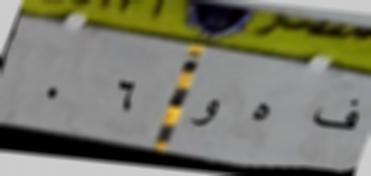0: (25, 74, 74, 111)
6: (103, 74, 150, 120)
faa: (304, 96, 364, 132)
haa: (246, 96, 273, 132)
waw: (187, 91, 231, 138)
